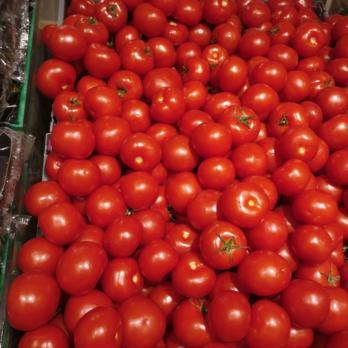Tomato: (69, 2, 348, 348), (7, 258, 81, 348)
